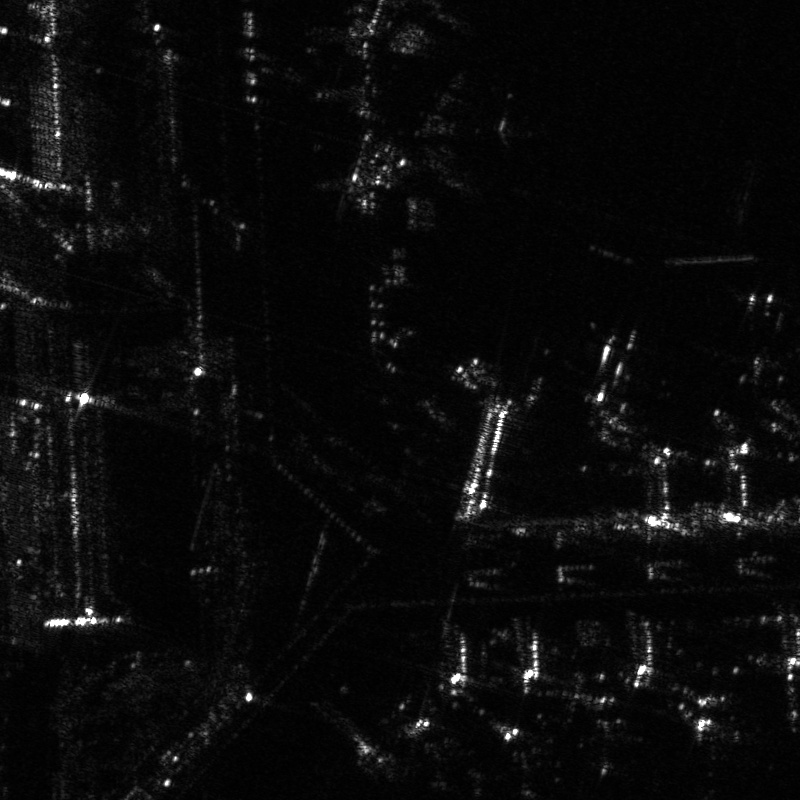A220: (572, 694, 645, 786)
A320/321: (355, 71, 512, 195)
Boeing787: (670, 697, 757, 799)
